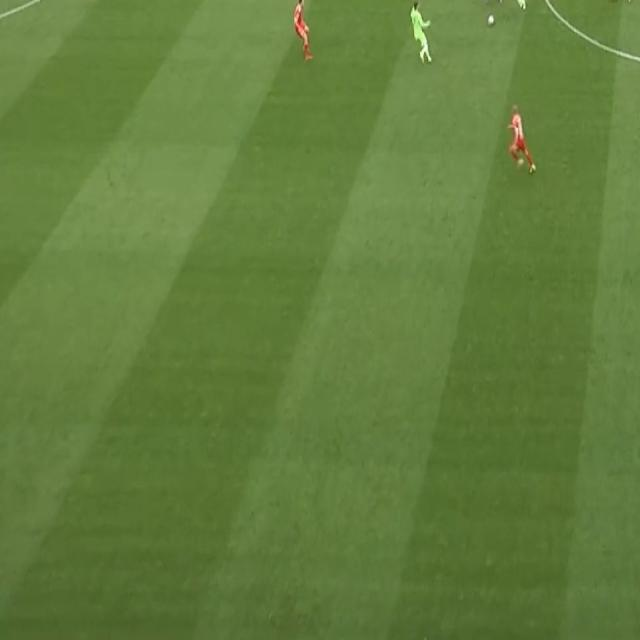ball: (487, 13, 495, 28)
